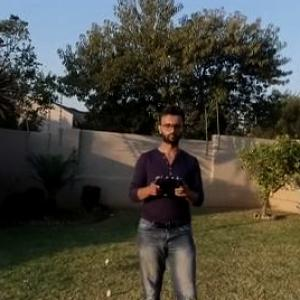follow: (125, 95, 213, 299)
